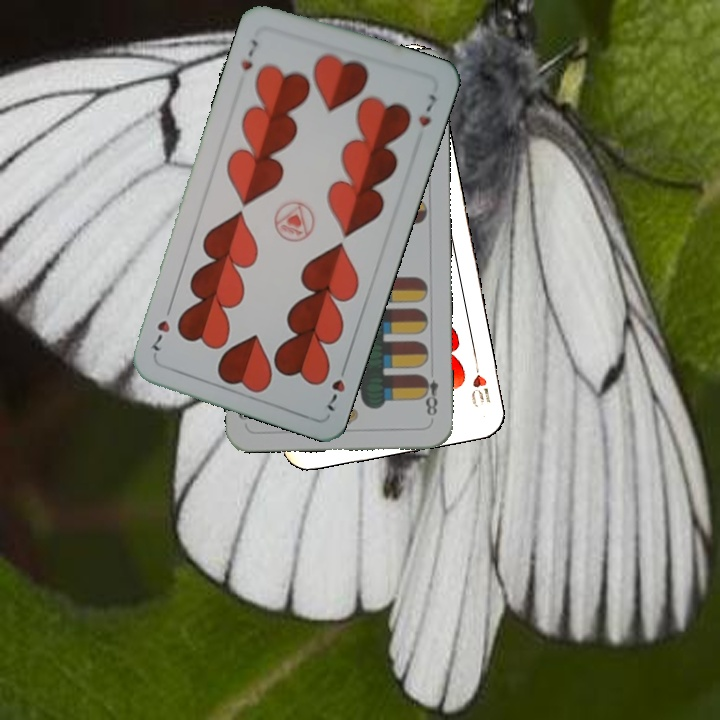E8: (417, 371, 441, 419)
H10: (467, 353, 494, 410)
H7: (322, 359, 350, 414), (237, 35, 261, 73)
